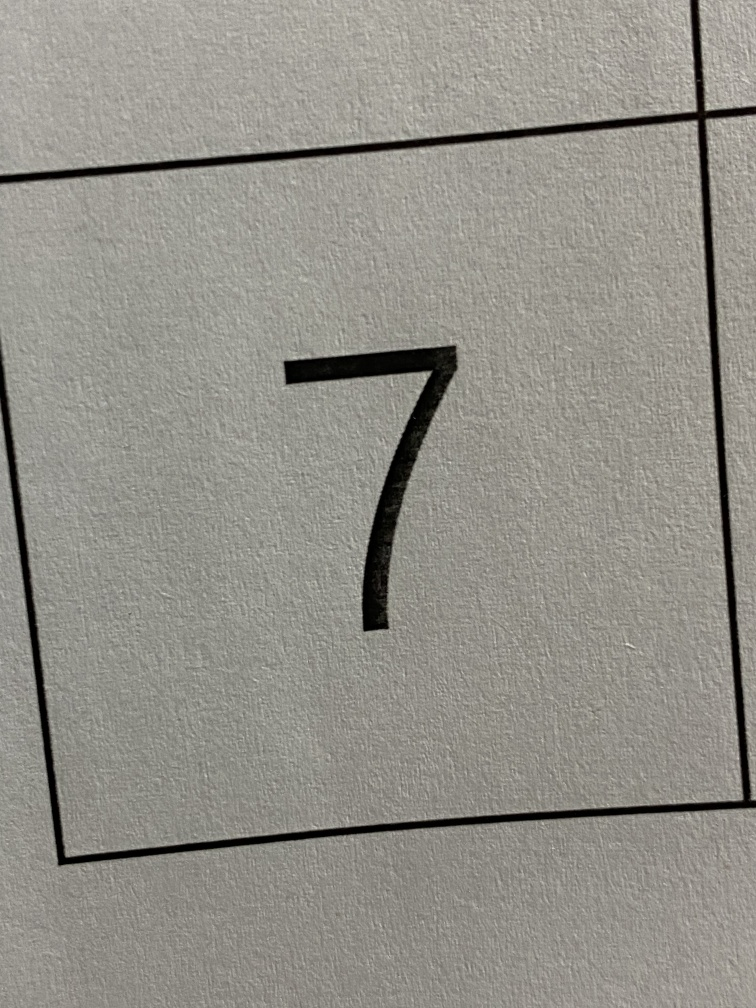seven: (240, 275, 523, 690)
